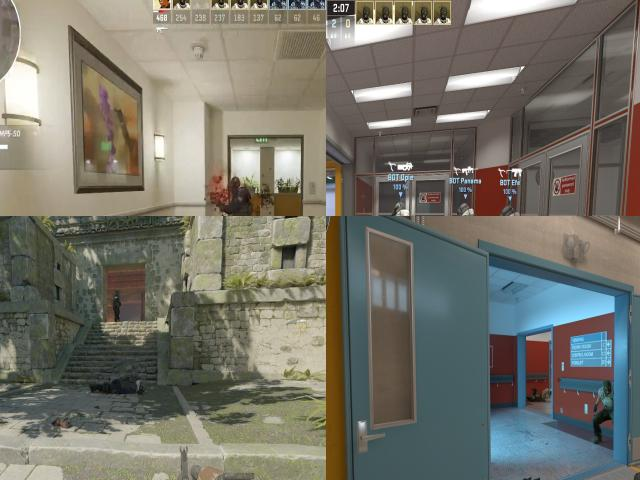CT: (227, 169, 256, 216), (110, 291, 122, 330)
CT-Head: (231, 175, 246, 197), (391, 204, 407, 216), (457, 203, 470, 216), (499, 206, 515, 216), (114, 294, 119, 300)
Dead: (87, 370, 150, 395), (527, 387, 552, 404)
T: (597, 379, 613, 445)
T-Head: (602, 379, 612, 397)
